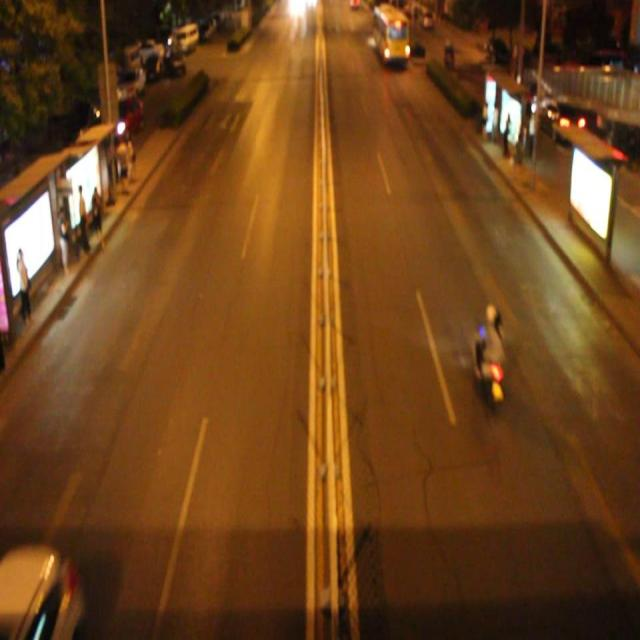car: (0, 548, 80, 640)
